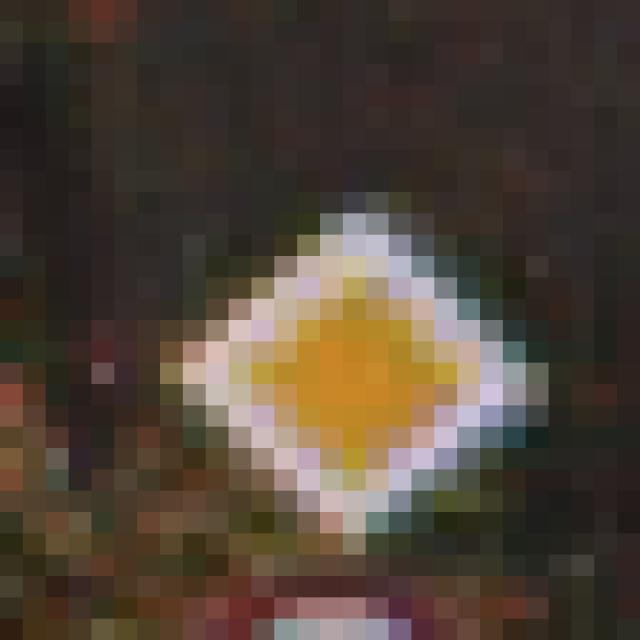Main Road: (138, 129, 527, 513)
